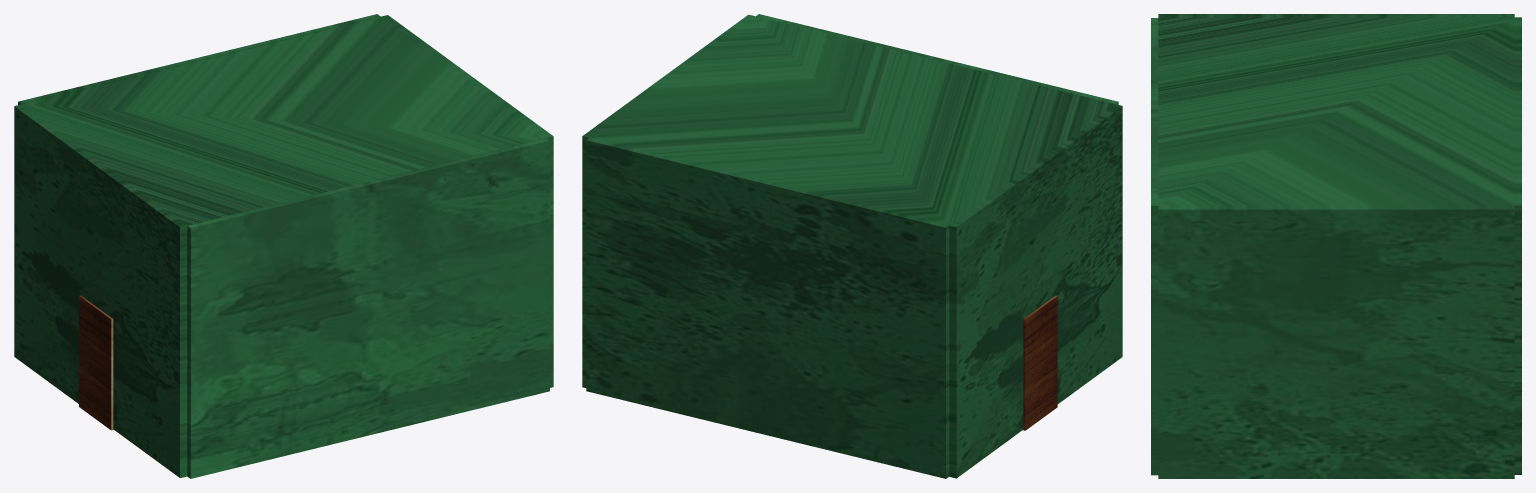
The model's file is Room.glb.
3 renders of one model, left to right at view 1: azimuth 30°, elevation 25°; view 2: azimuth 150°, elevation 25°; view 3: azimuth 270°, elevation 25°, orthographic. The views are drawn at different scales.
Visible parts, largest first — view 1: Side Wall Left, Roof, Wall Right, Cube.001, Wall Left, Side Wall Right; view 2: Side Wall Right, Roof, Wall Right, Cube.001, Wall Left, Side Wall Left; view 3: Wall Left, Roof, Side Wall Right, Side Wall Left, Wall Right.
Boxes of the visible parts, x1,y1,x2,y2 form: Side Wall Left: (187, 138, 549, 478); Roof: (22, 16, 546, 225); Wall Right: (14, 104, 187, 477); Cube.001: (79, 295, 113, 430); Wall Left: (381, 15, 553, 387); Side Wall Right: (18, 14, 380, 104); Side Wall Right: (586, 137, 949, 478); Roof: (590, 16, 1114, 225); Wall Right: (949, 104, 1122, 478); Cube.001: (1023, 295, 1057, 430); Wall Left: (582, 14, 754, 387); Side Wall Left: (756, 14, 1118, 104); Wall Left: (1158, 206, 1514, 478); Roof: (1158, 17, 1514, 205); Side Wall Right: (1514, 17, 1521, 474); Side Wall Left: (1151, 18, 1158, 475); Wall Right: (1158, 14, 1514, 17).
Size of the model in its own units: 15.68 by 10.21 by 12.48.
14 materials, 14 textured.
